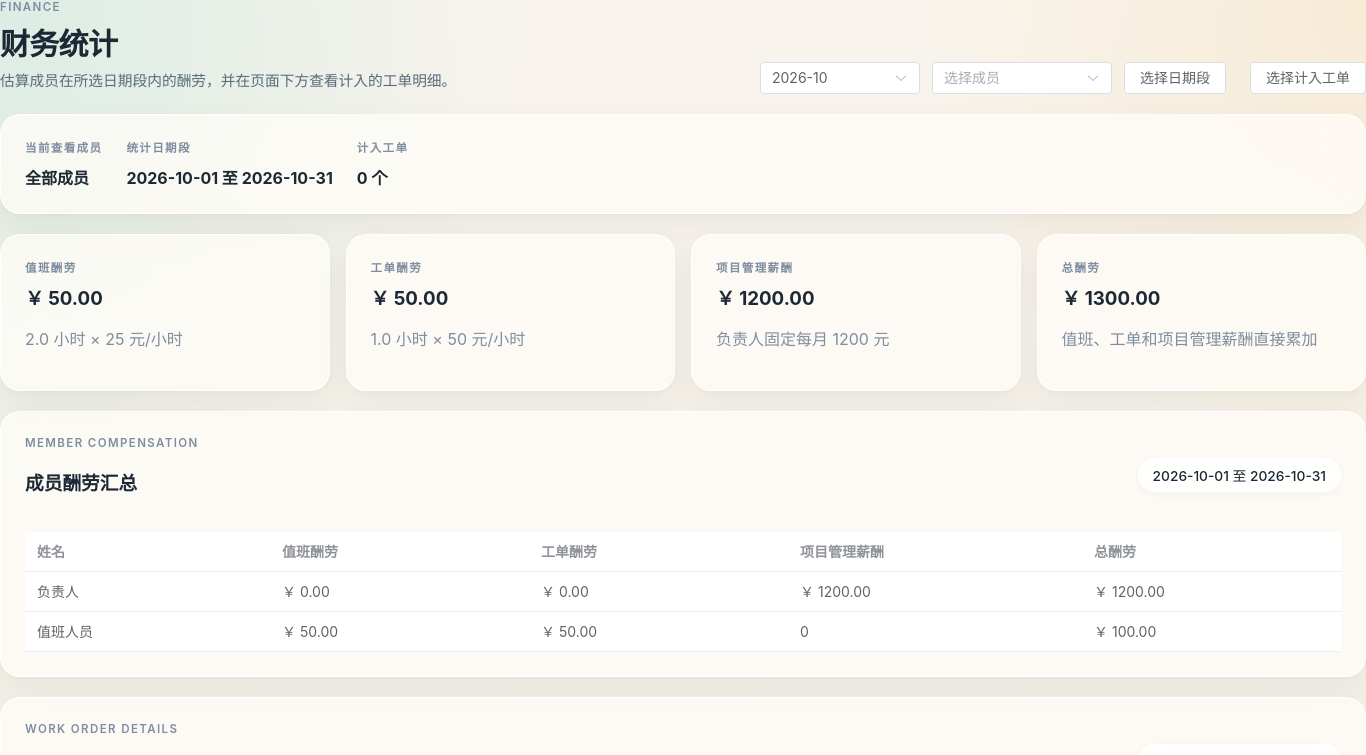
finance member compensation table › opens the range dialog with management pay checked and one month
Click the button "选择日期段": (1175, 78) [1124,62,1226,94]
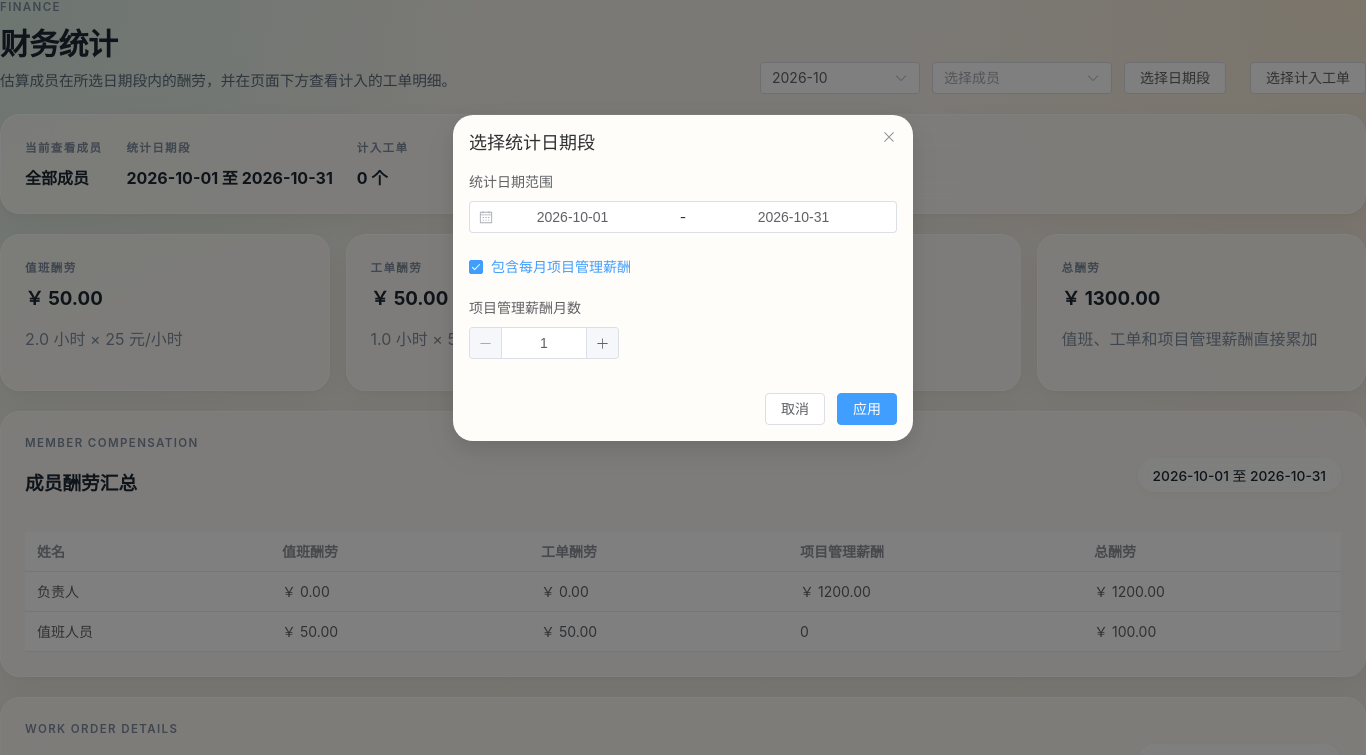
Expected: the checkbox labelled "包含每月项目管理薪酬" is checked, [469,258,631,275]
Expected: the number field labelled "项目管理薪酬月数" holds "1", [511,328,577,358]
